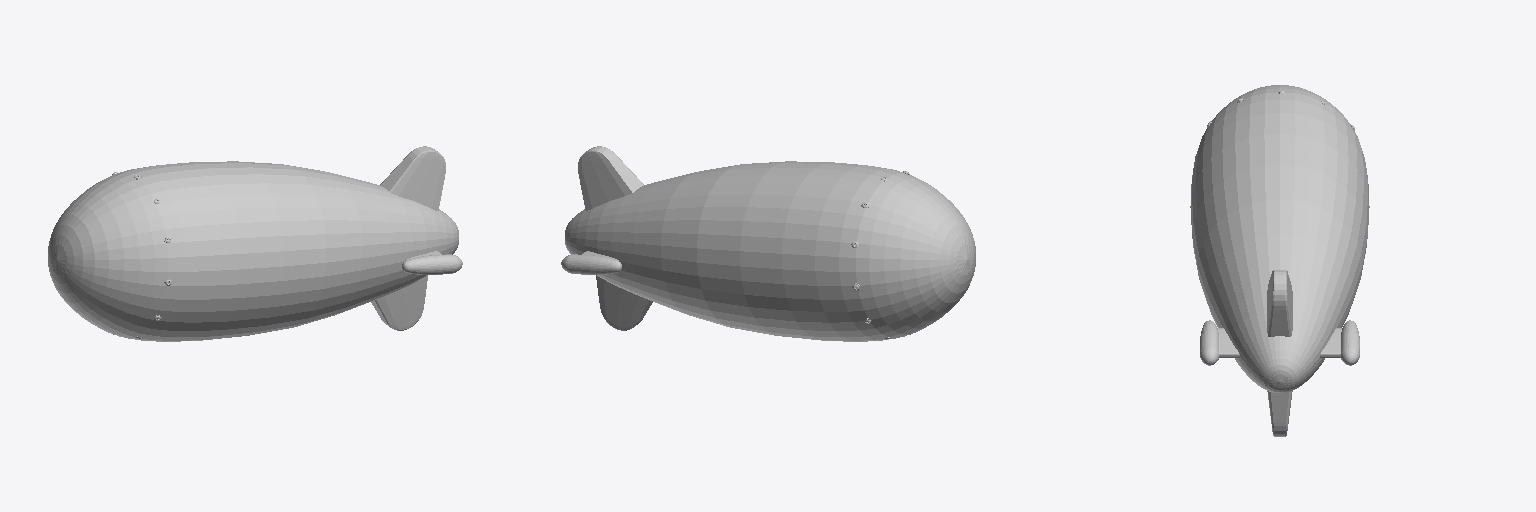
File: rocket.obj
3 renders of one model, left to right at view 1: azimuth 30°, elevation 25°; view 2: azimuth 150°, elevation 25°; view 3: azimuth 270°, elevation 25°, orthographic.
Visible parts, largest first — view 1: Cylinder; view 2: Cylinder; view 3: Cylinder.
Part boxes in pixels (bbox=[...]): Cylinder: bbox=[48, 146, 462, 341]; Cylinder: bbox=[561, 146, 975, 341]; Cylinder: bbox=[1190, 85, 1369, 436].
Size of the model in its own units: 5.95 by 3.07 by 2.31.